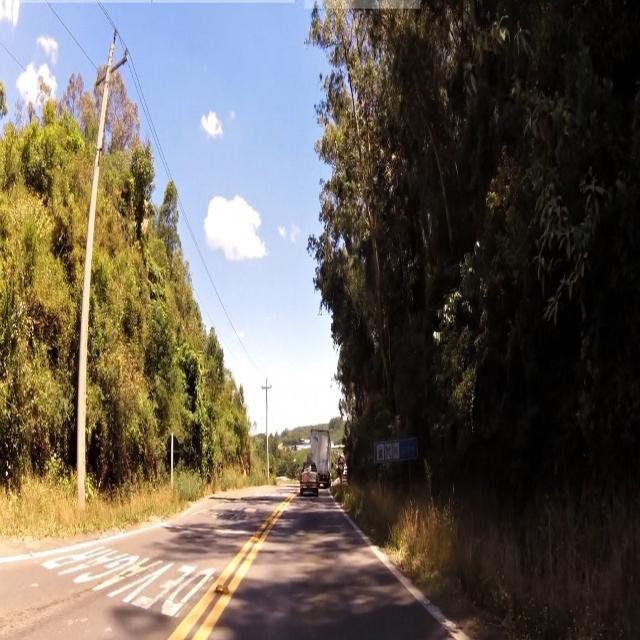LOC-6: (374, 439, 417, 462)
